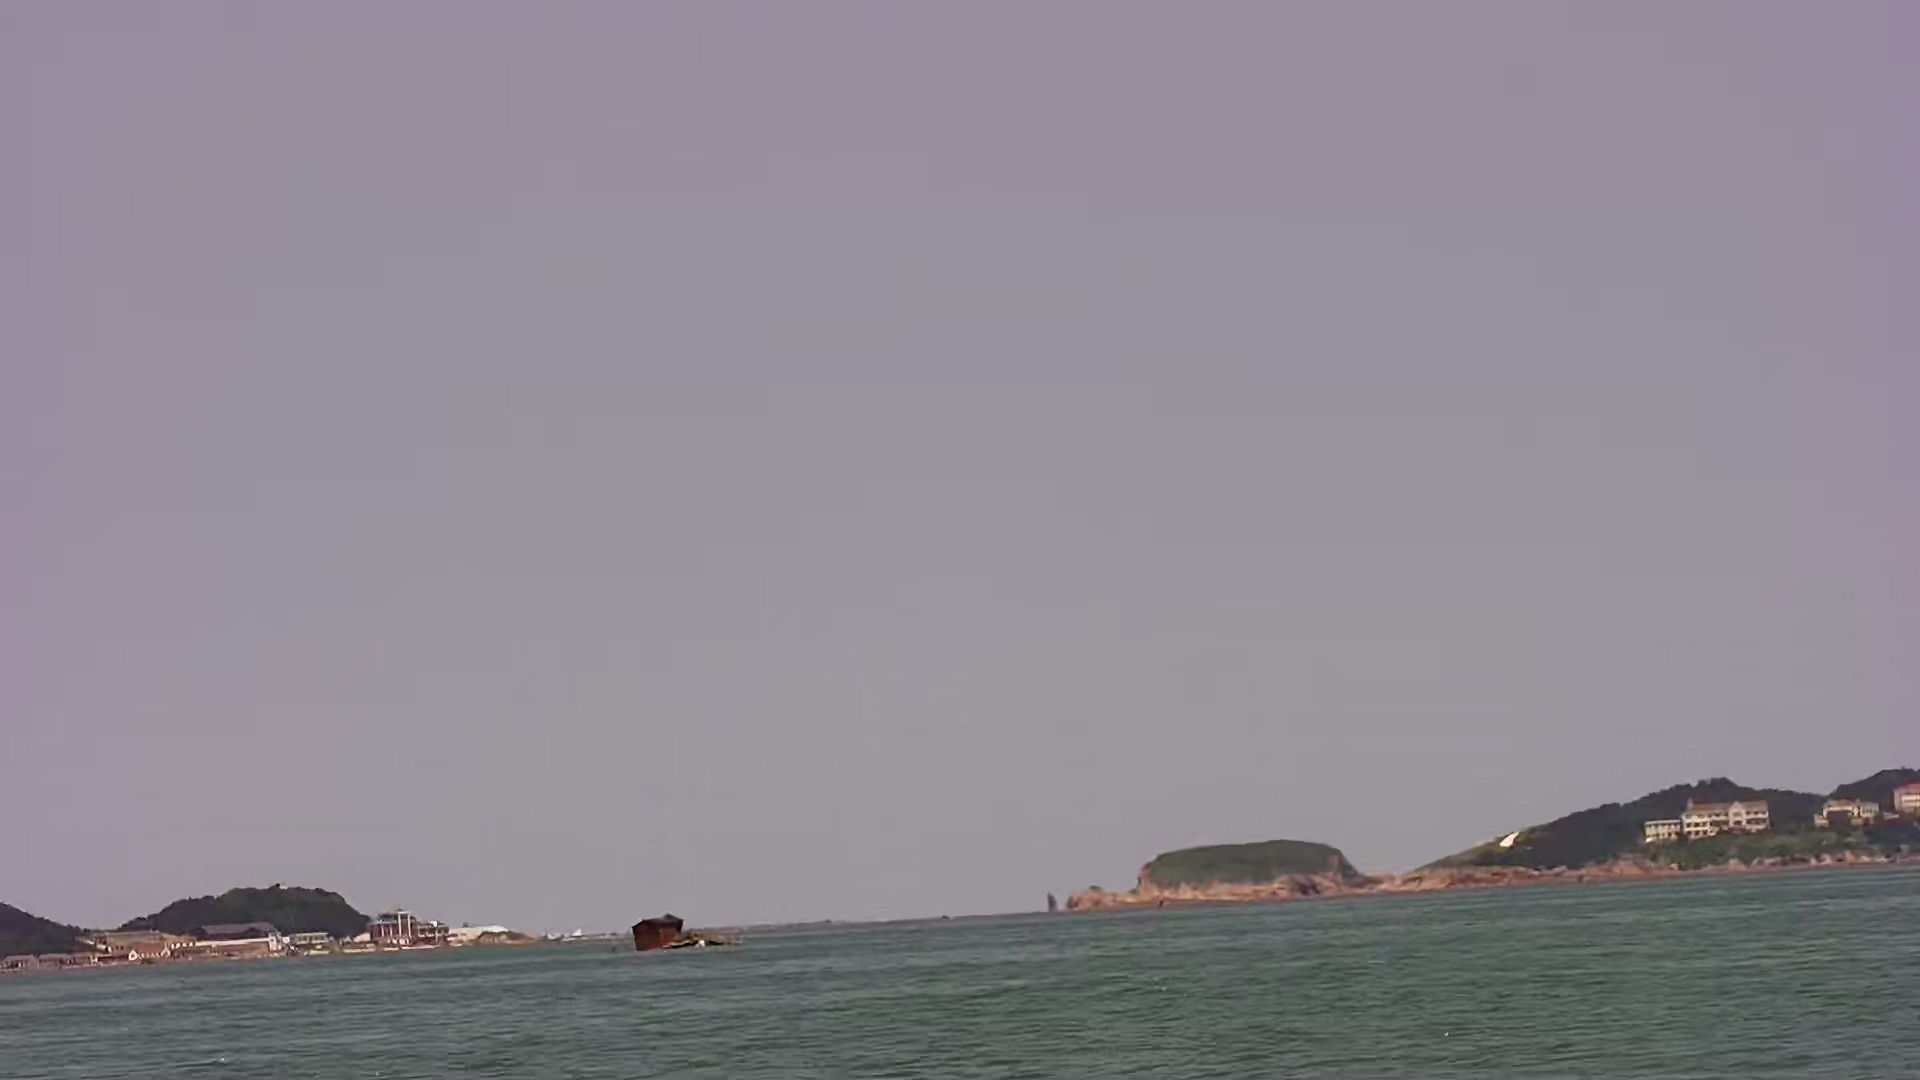platform: (618, 893, 746, 967)
rock: (1436, 728, 1920, 994), (1021, 767, 1414, 928), (135, 833, 527, 959), (1, 885, 104, 982)
